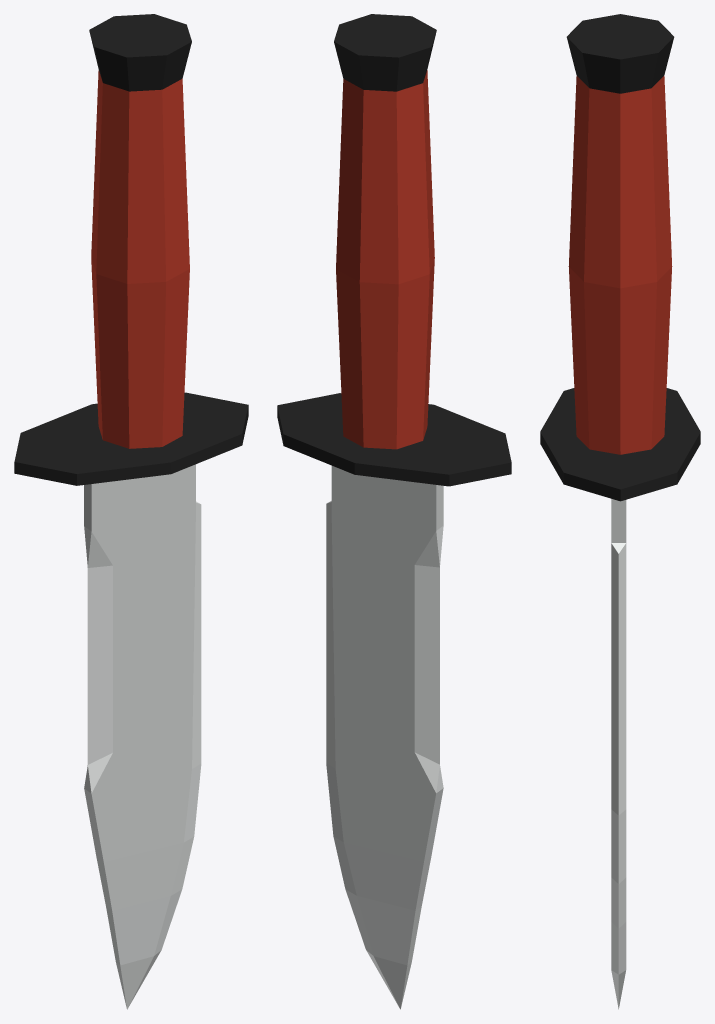
The model's file is dao.fbx.
3 views of the same model, side by side, from view 1: azimuth 30°, elevation 25°; view 2: azimuth 150°, elevation 25°; view 3: azimuth 270°, elevation 25° (orthographic).
Visible parts, largest first — view 1: dao; view 2: dao; view 3: dao.
Boxes of the visible parts, bbox=[...] form: dao: bbox=[14, 14, 248, 1009]; dao: bbox=[277, 14, 511, 1009]; dao: bbox=[540, 14, 700, 1009].
Bounding box in the file's own units: 1.49 × 5.92 × 0.8786.
Materials: 1 (1 with a texture image).
